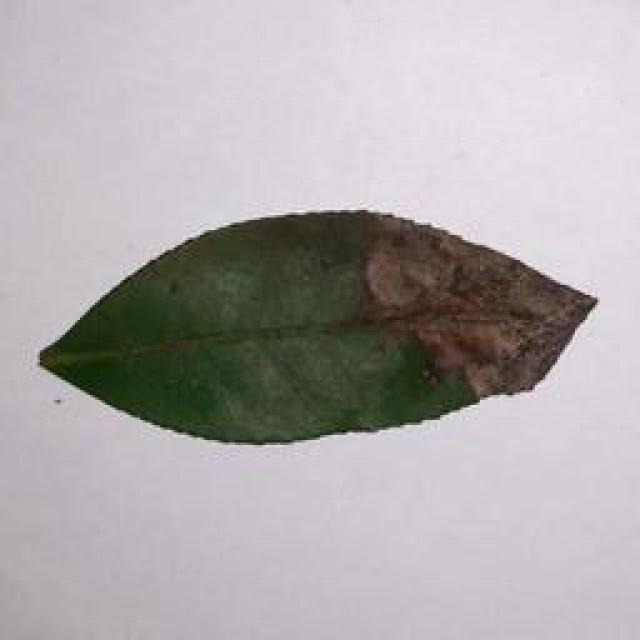Brown Blight: (37, 189, 601, 442)
